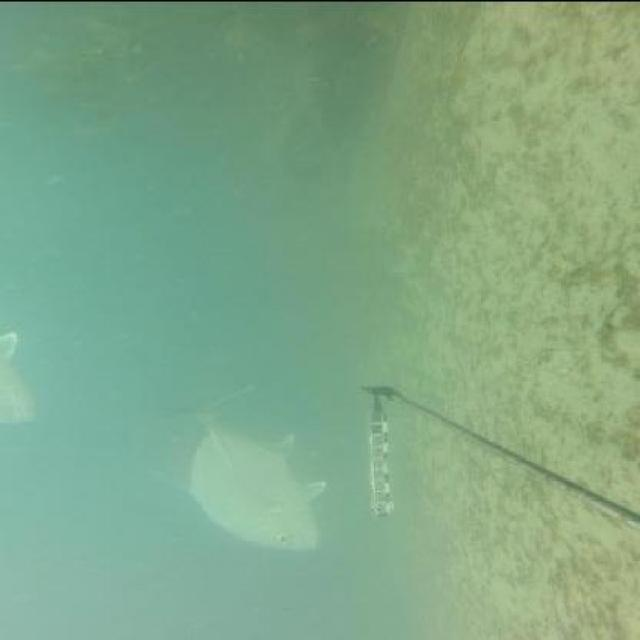Caranx: (148, 383, 334, 549), (1, 317, 42, 428)
